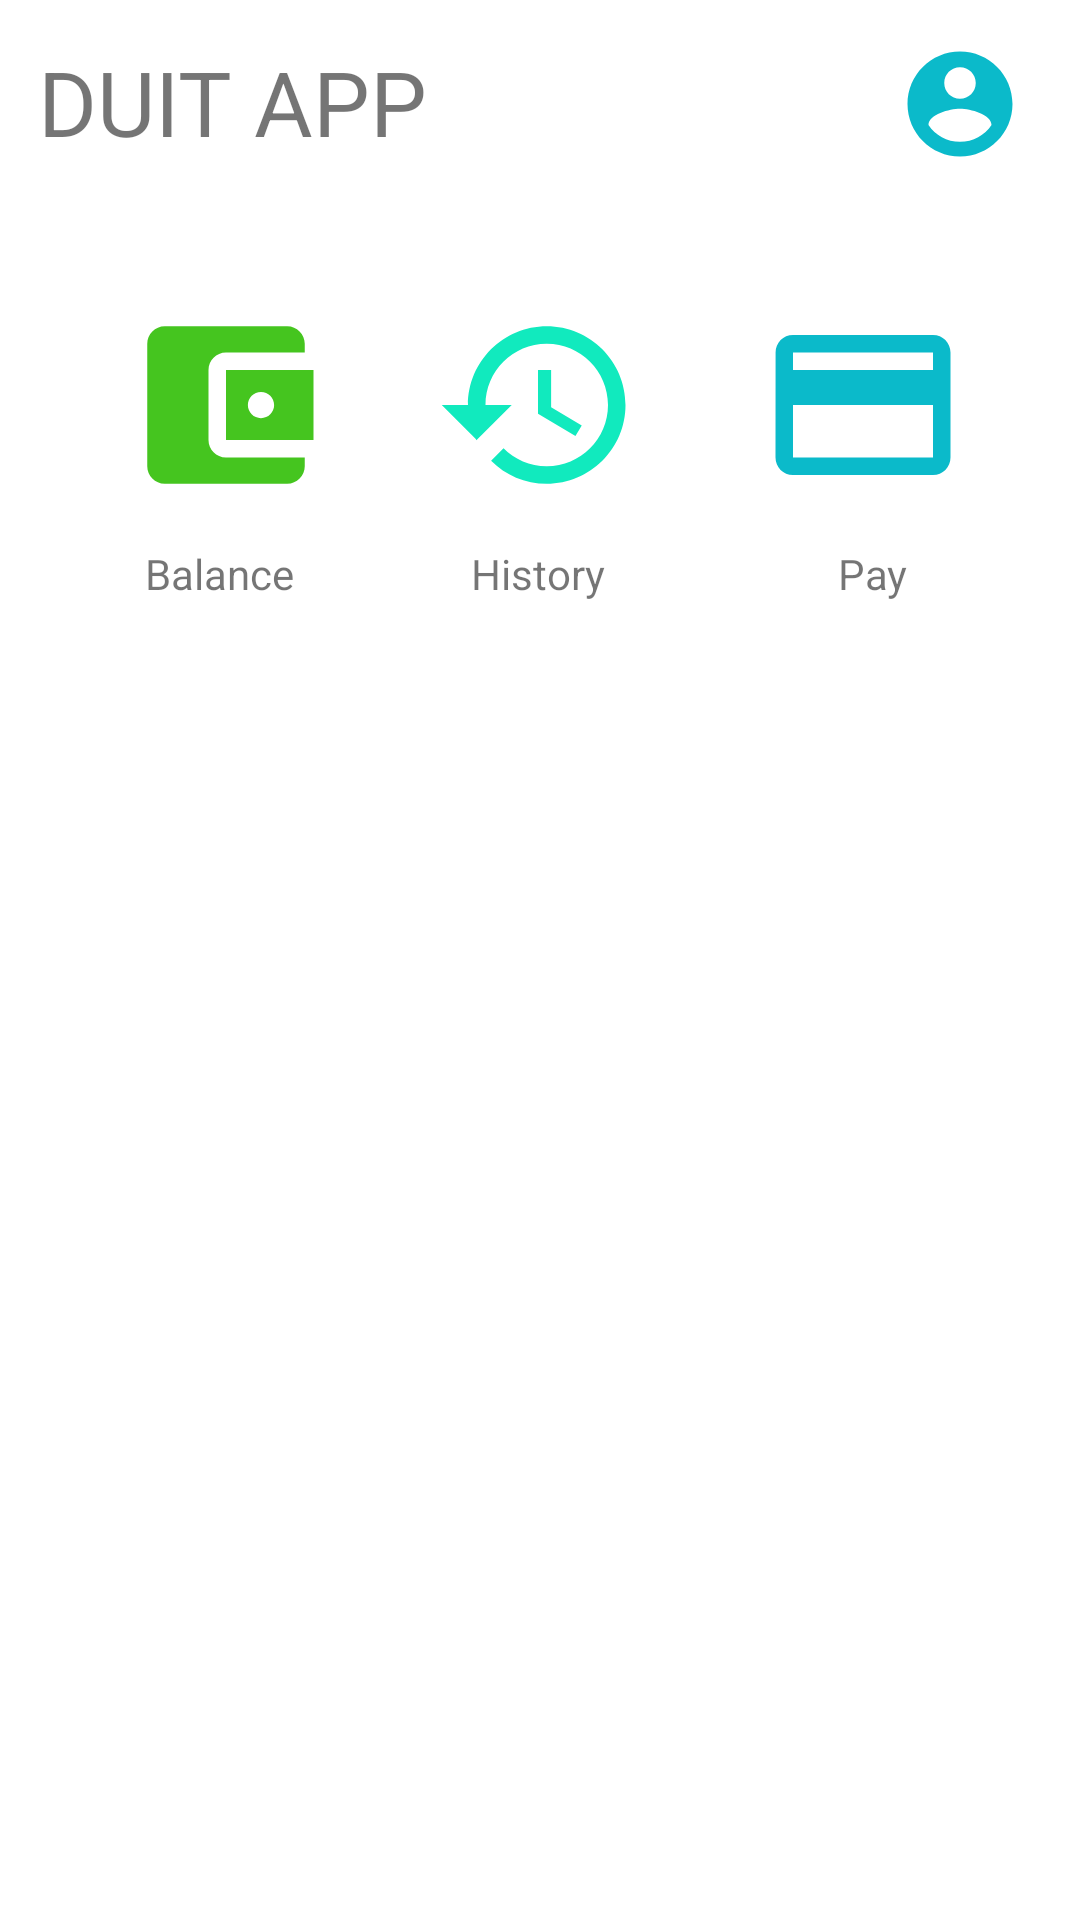

Icons on this 1080×1920 Android screen, each with the point to tap as point (x, y):
account circle: point (960, 104)
payment: point (863, 405)
